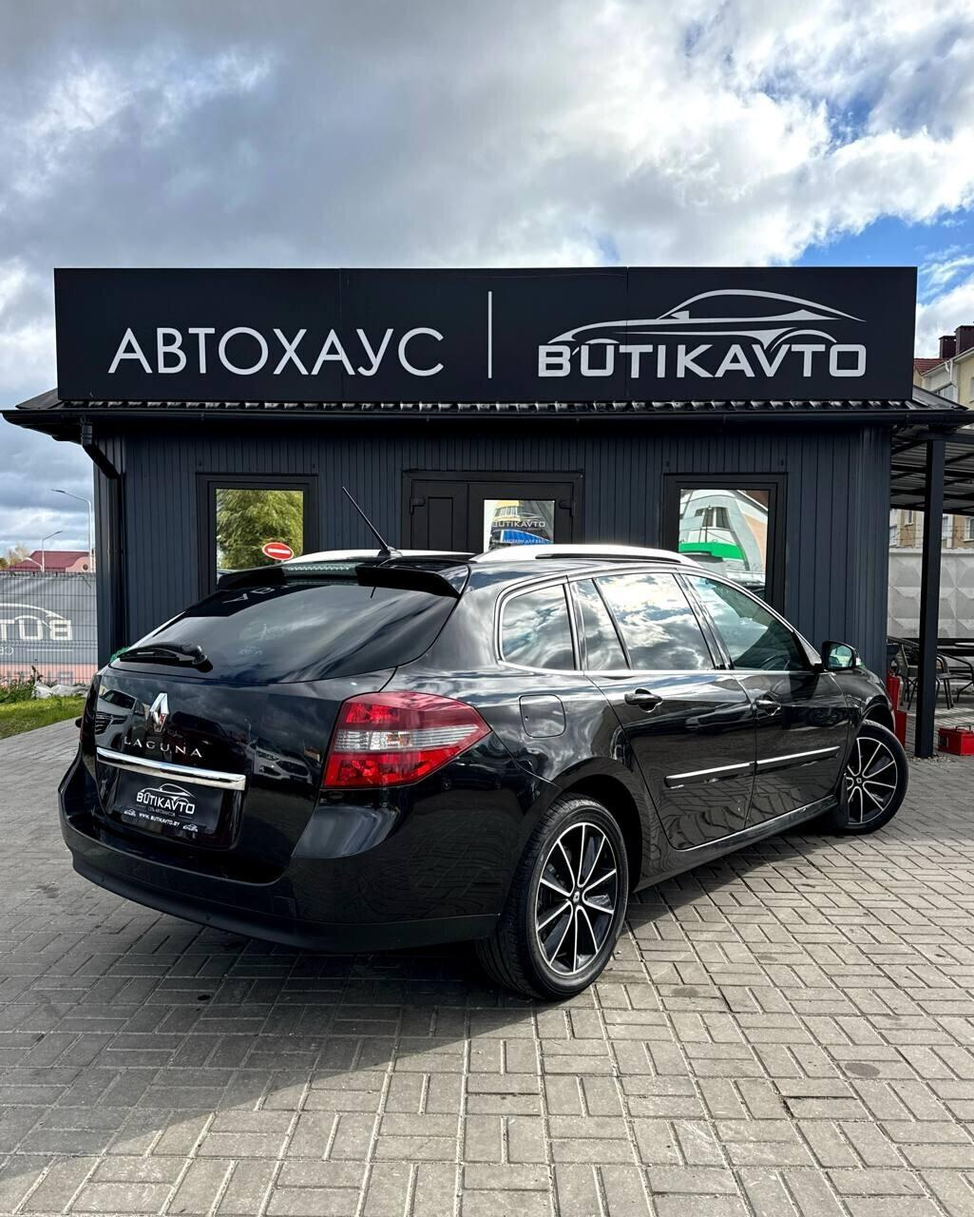Laguna_2010-2015: (54, 528, 917, 984)
